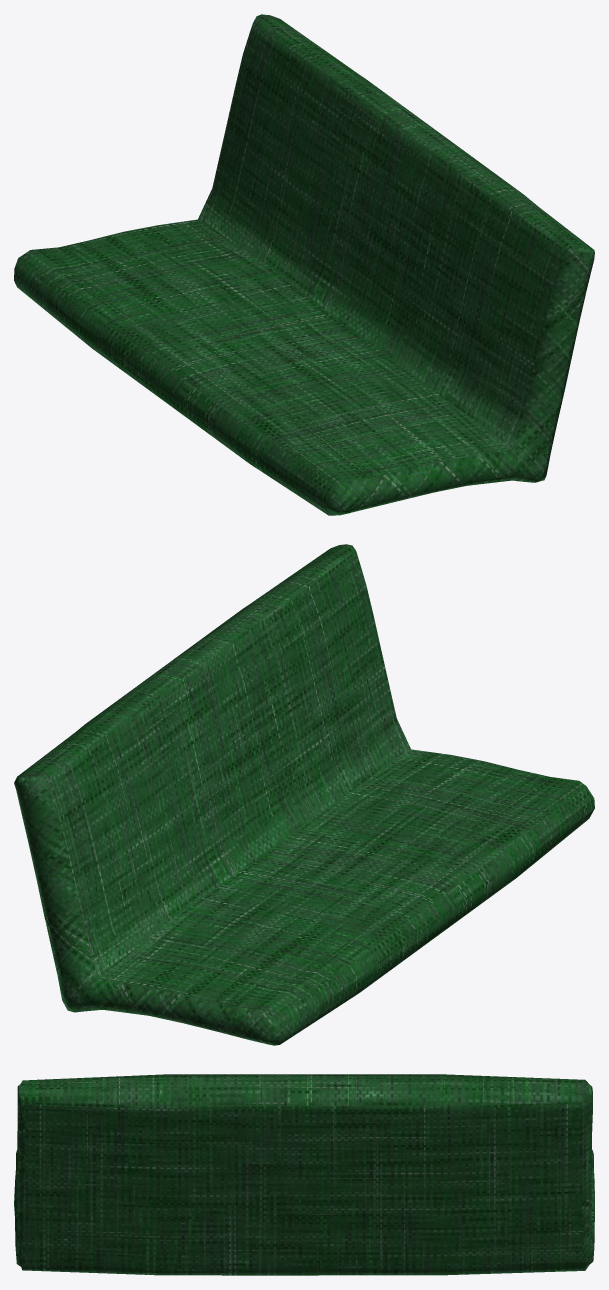
Rendered from shafa_buliao.fbx.
3 renders of one model, top to bottom at view 1: azimuth 30°, elevation 25°; view 2: azimuth 150°, elevation 25°; view 3: azimuth 270°, elevation 25°, orthographic. The views are drawn at different scales.
Visible parts, largest first — view 1: shafa:buliao; view 2: shafa:buliao; view 3: shafa:buliao.
Boxes of the visible parts, x1,y1,x2,y2 form: shafa:buliao: [14, 14, 594, 515]; shafa:buliao: [14, 544, 594, 1045]; shafa:buliao: [14, 1074, 594, 1275].
Size of the model in its own units: 114 by 90.94 by 229.
